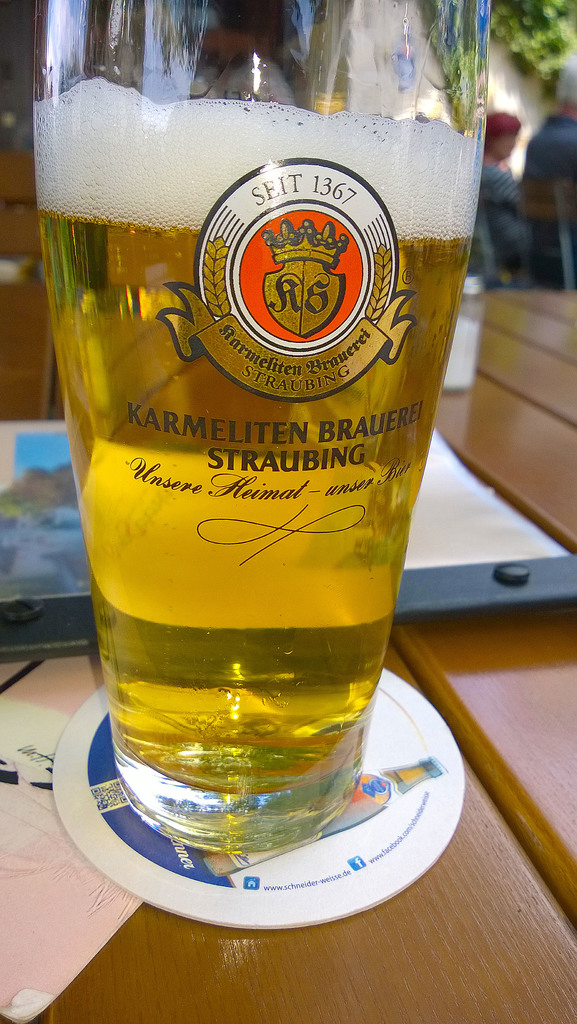Beer: (38, 97, 469, 855)
